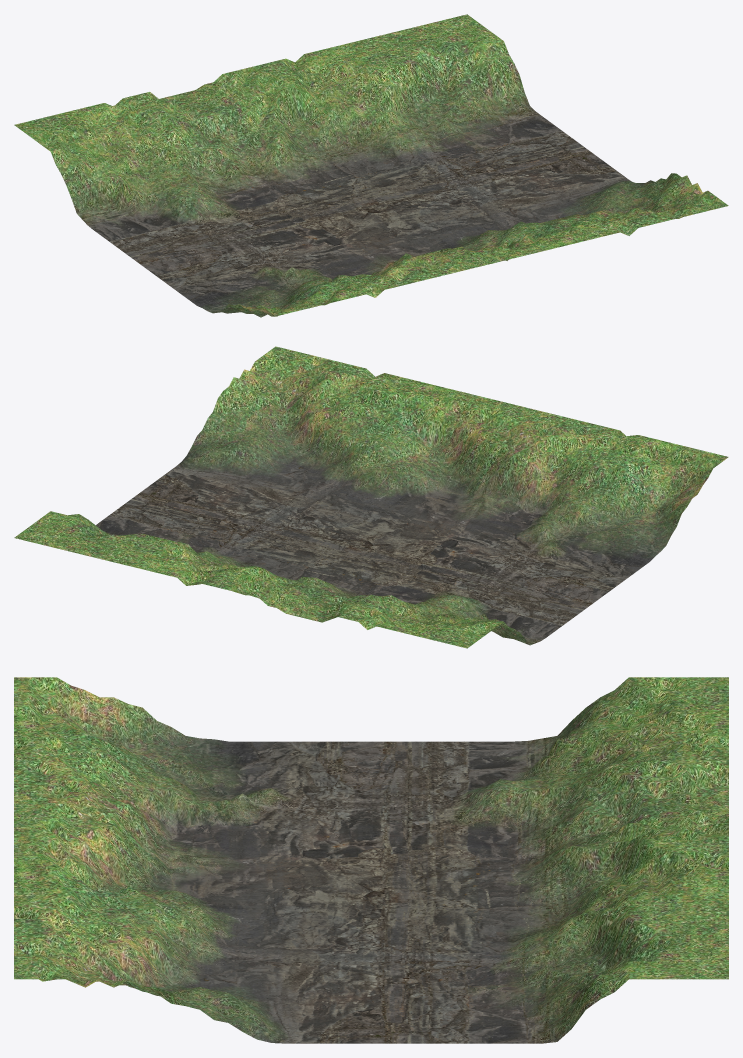
Rendered from Terrain.obj.
3 renders of one model, top to bottom at view 1: azimuth 30°, elevation 25°; view 2: azimuth 150°, elevation 25°; view 3: azimuth 270°, elevation 25°, orthographic. The views are drawn at different scales.
Parts seen in each view (by area): view 1: Terrain; view 2: Terrain; view 3: Terrain.
Boxes of the visible parts, x1,y1,x2,y2 form: Terrain: (14, 14, 728, 317); Terrain: (14, 346, 728, 648); Terrain: (14, 677, 728, 1043).
Bounding box in the file's own units: 100 × 9.91 × 100.
Materials: 1 (1 with a texture image).
